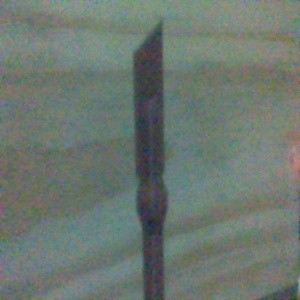cutter: (131, 19, 170, 300)
